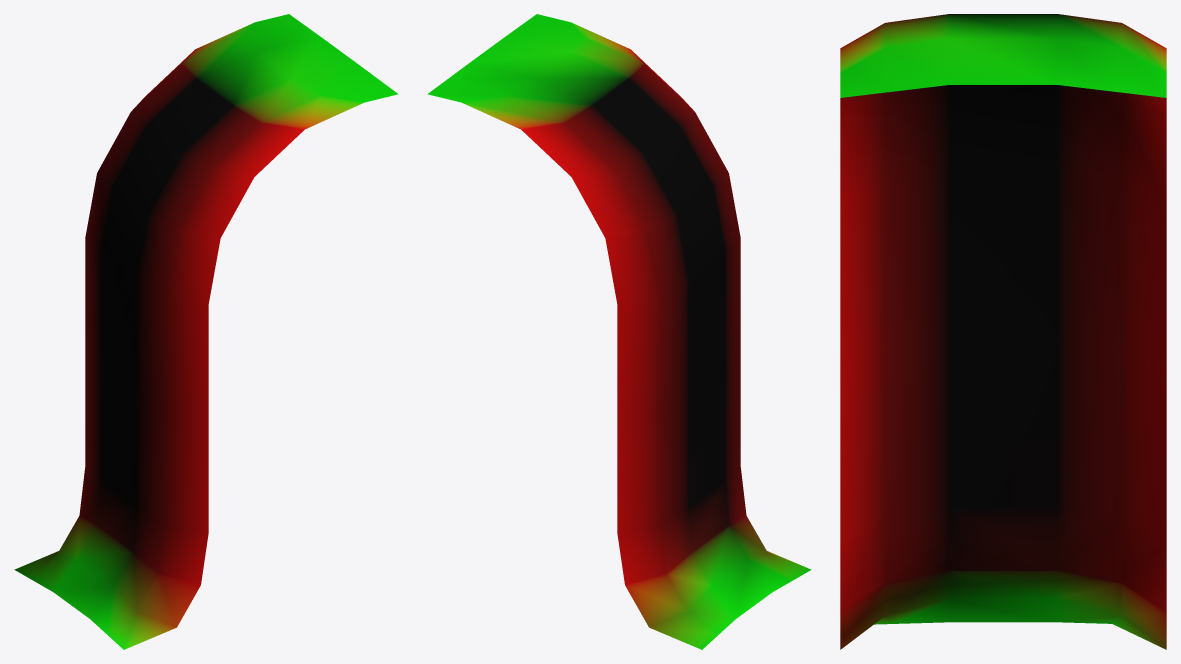
Rendered from Lavafull.fbx.
3 views of the same model, side by side, from view 1: azimuth 30°, elevation 25°; view 2: azimuth 150°, elevation 25°; view 3: azimuth 270°, elevation 25° (orthographic). The views are drawn at different scales.
Parts seen in each view (by area): view 1: Plane; view 2: Plane; view 3: Plane.
Part boxes in pixels (x1,y1,x2,y2): Plane: (14, 14, 398, 649); Plane: (427, 14, 811, 649); Plane: (840, 14, 1166, 649).
Size of the model in its own units: 145 by 249 by 100.
